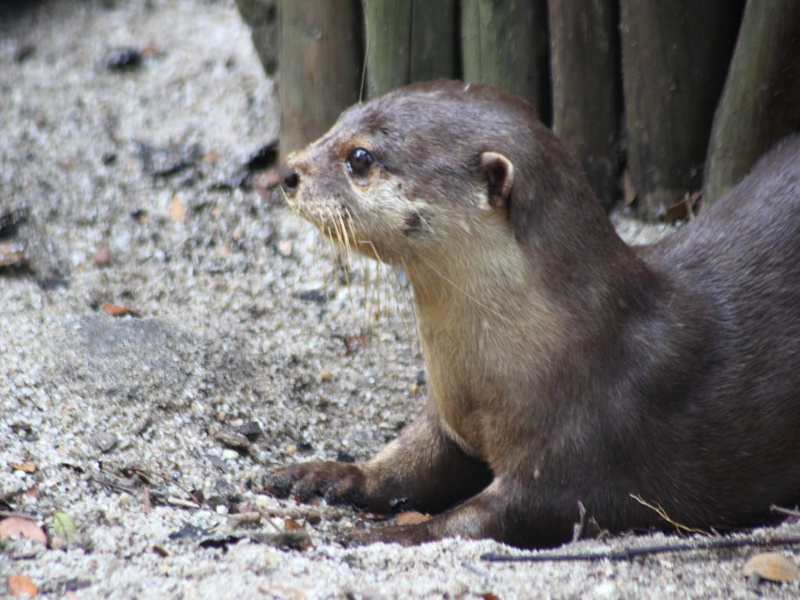minkish: (265, 68, 800, 550)
